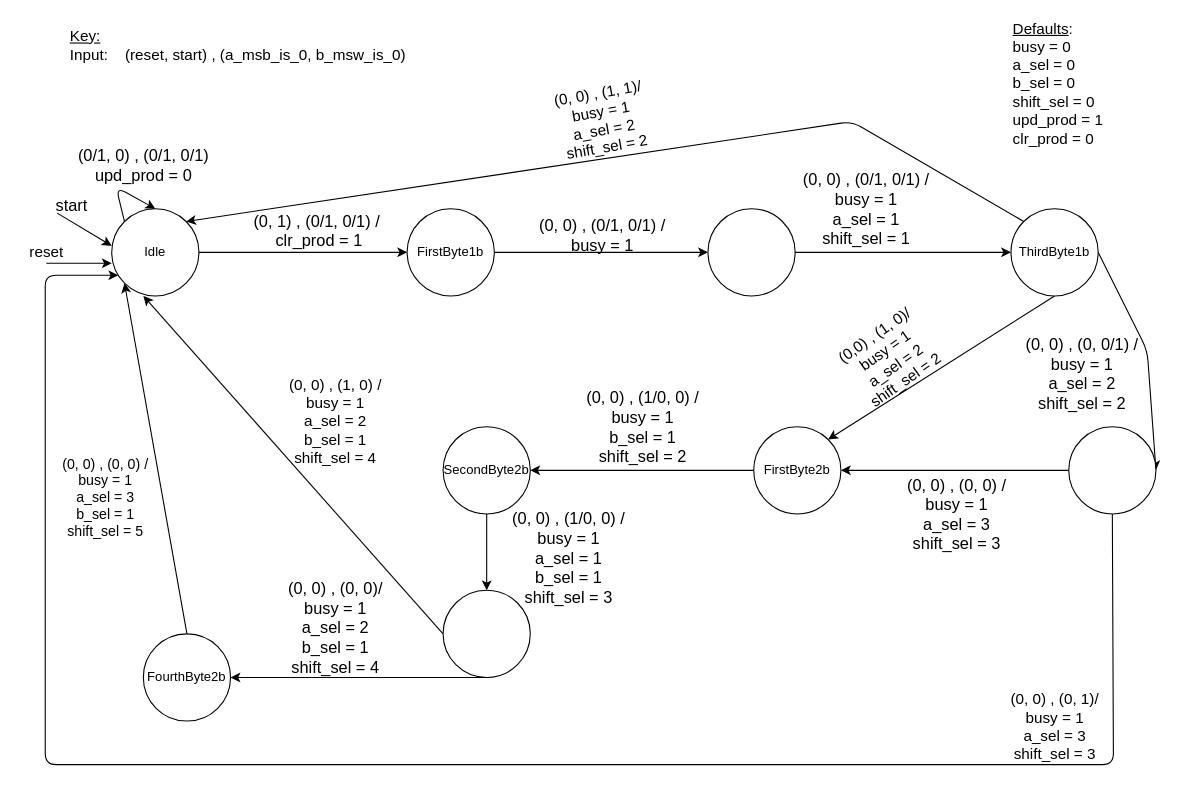
This 1184x792 diagram has some shape labels left out. The box of each missing label's shape, as (x1, y1, x2, y2) in pixels:
FourthByte1b: (1068, 426, 1156, 514)
SecondByte1b: (707, 208, 795, 296)
ThirdByte2b: (442, 589, 530, 677)
